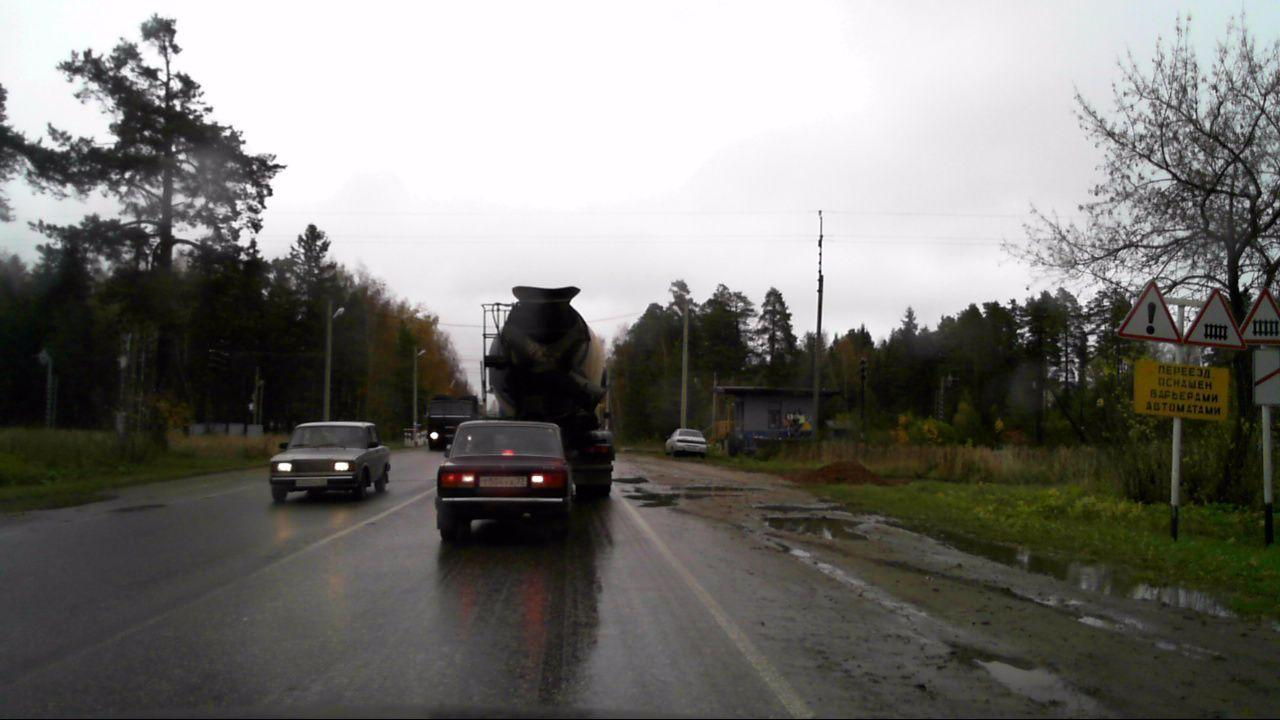1_1: (1184, 282, 1245, 350), (1237, 282, 1280, 343)
1_33: (1115, 277, 1182, 345)
1_4_3: (1253, 348, 1280, 405)
